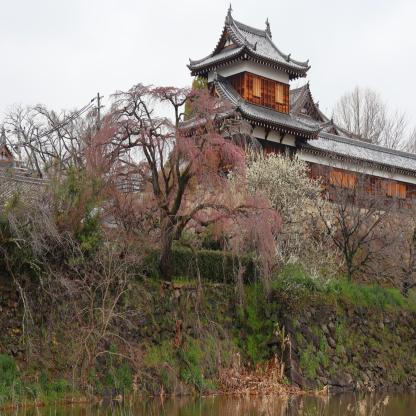Ume: (62, 70, 279, 300), (227, 144, 348, 294)
